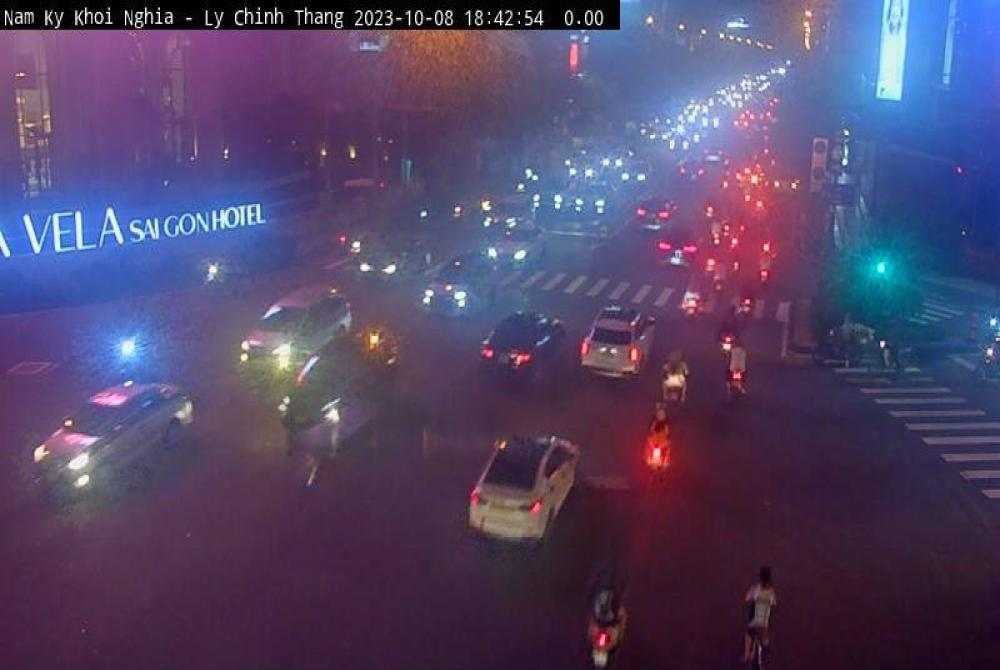car: (467, 419, 578, 580), (236, 283, 354, 382), (472, 296, 574, 398), (580, 283, 661, 399)
